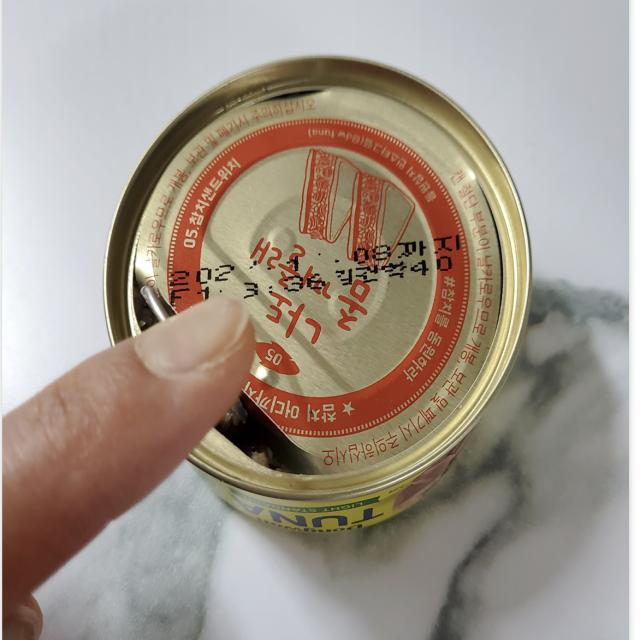recyclable: (88, 43, 554, 553)
